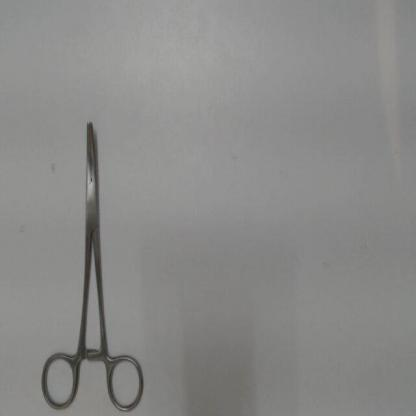Crile Artery Forceps: (35, 115, 150, 413)
